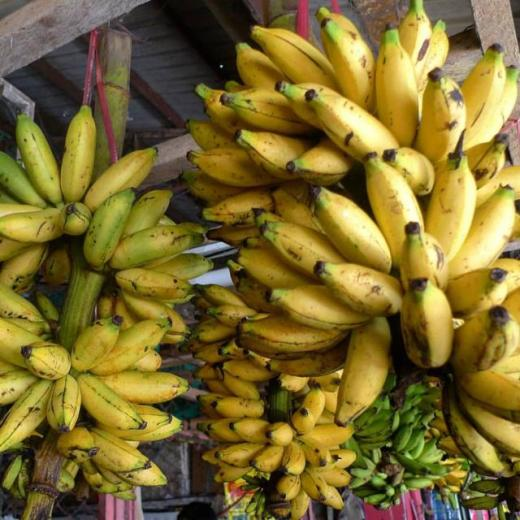Banana: (183, 0, 520, 518), (0, 105, 212, 501)
